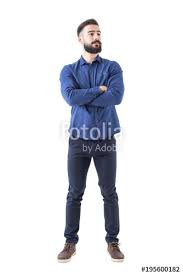standing: (50, 16, 134, 266)
